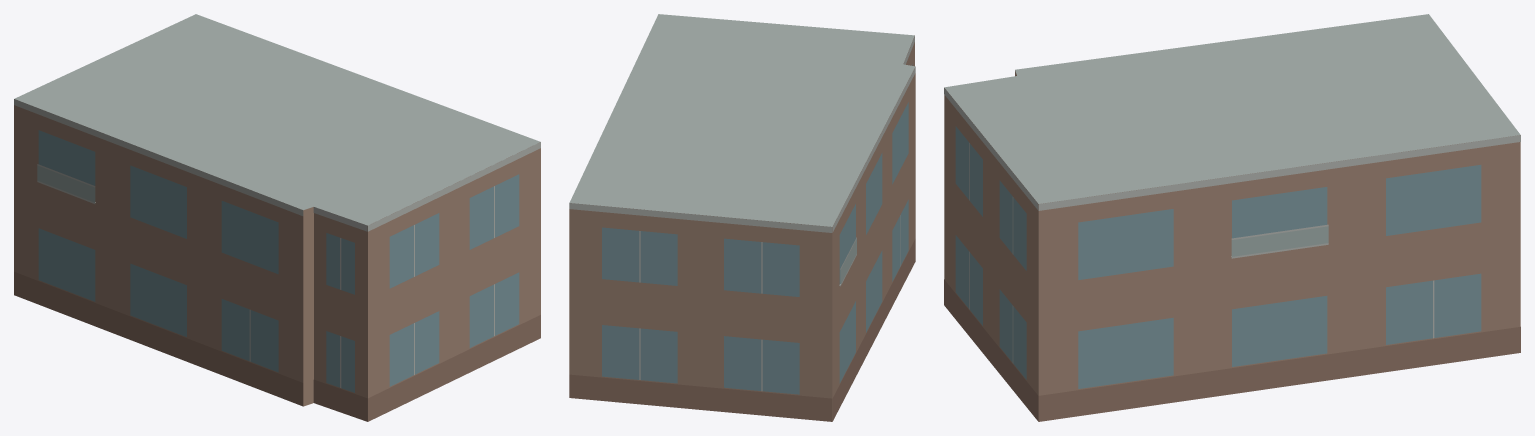
Rendered from survey-upis-32638559.glb.
3 renders of one model, left to right at view 1: azimuth 30°, elevation 25°; view 2: azimuth 150°, elevation 25°; view 3: azimuth 270°, elevation 25°, orthographic. The views are drawn at different scales.
Parts seen in each view (by area): view 1: survey-upis-32638559.tmp; view 2: survey-upis-32638559.tmp; view 3: survey-upis-32638559.tmp.
Part boxes in pixels (x1,y1,x2,y2): survey-upis-32638559.tmp: (14,14,540,421); survey-upis-32638559.tmp: (569,14,915,421); survey-upis-32638559.tmp: (944,14,1520,421).
Size of the model in its own units: 14.42 by 7.7 by 18.48.
